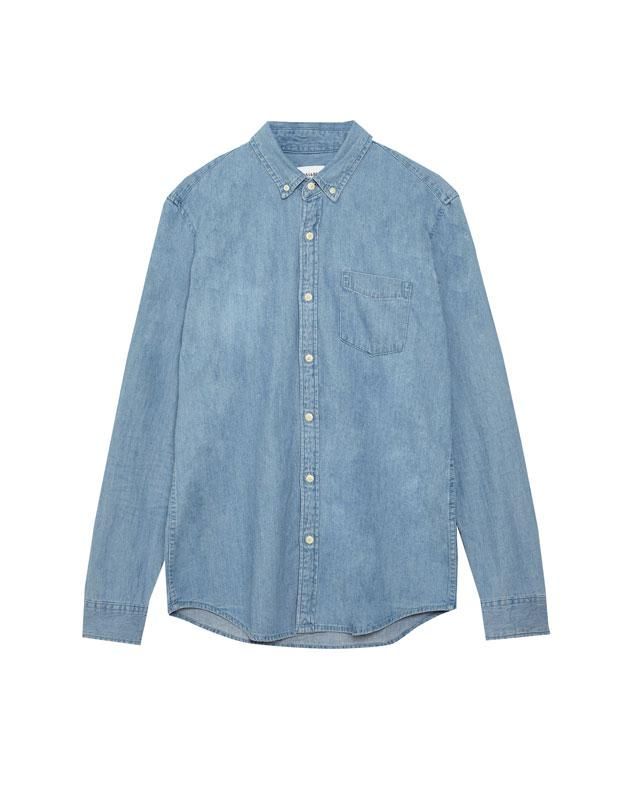teeshirt: (94, 116, 557, 673)
